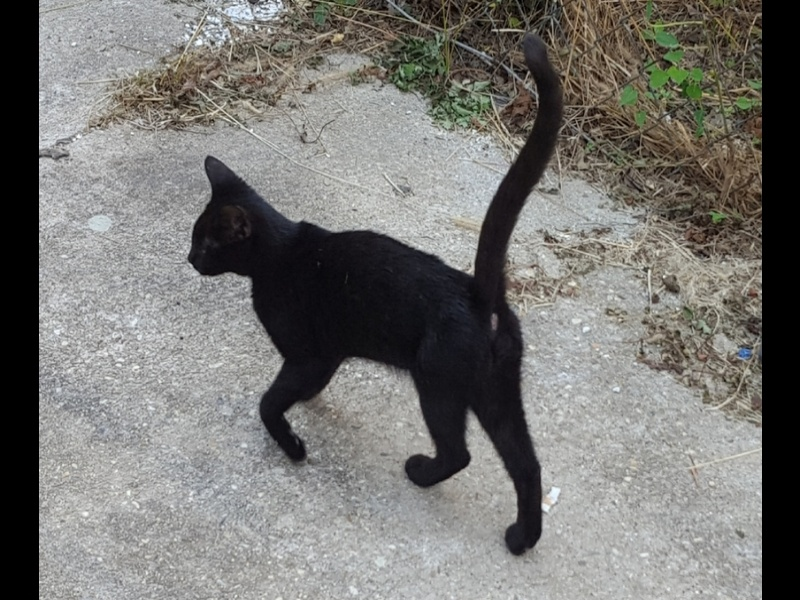cat: (182, 34, 573, 562)
